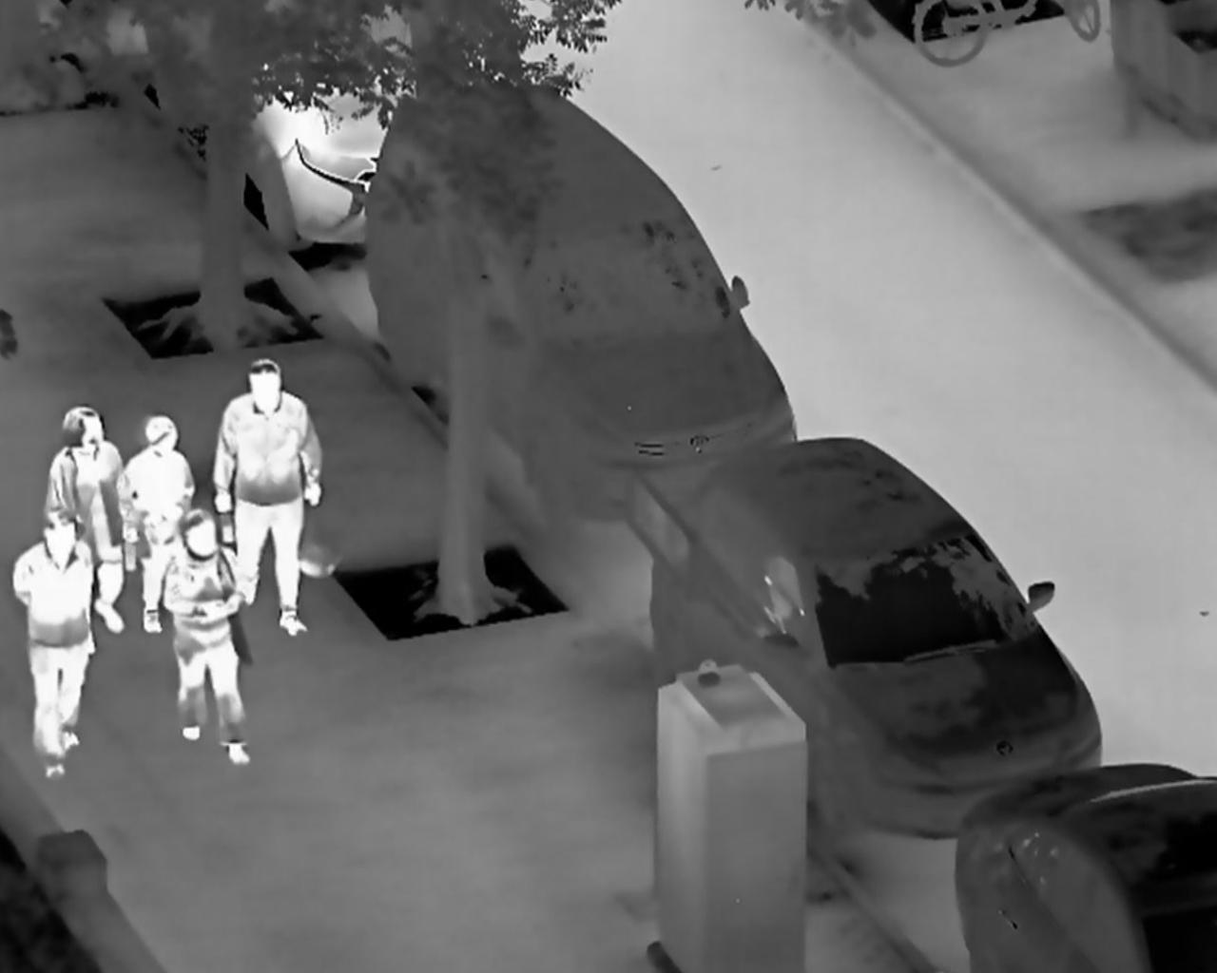person: (209, 360, 320, 635), (162, 513, 254, 768), (11, 508, 97, 780), (45, 405, 126, 637), (115, 413, 197, 636)
